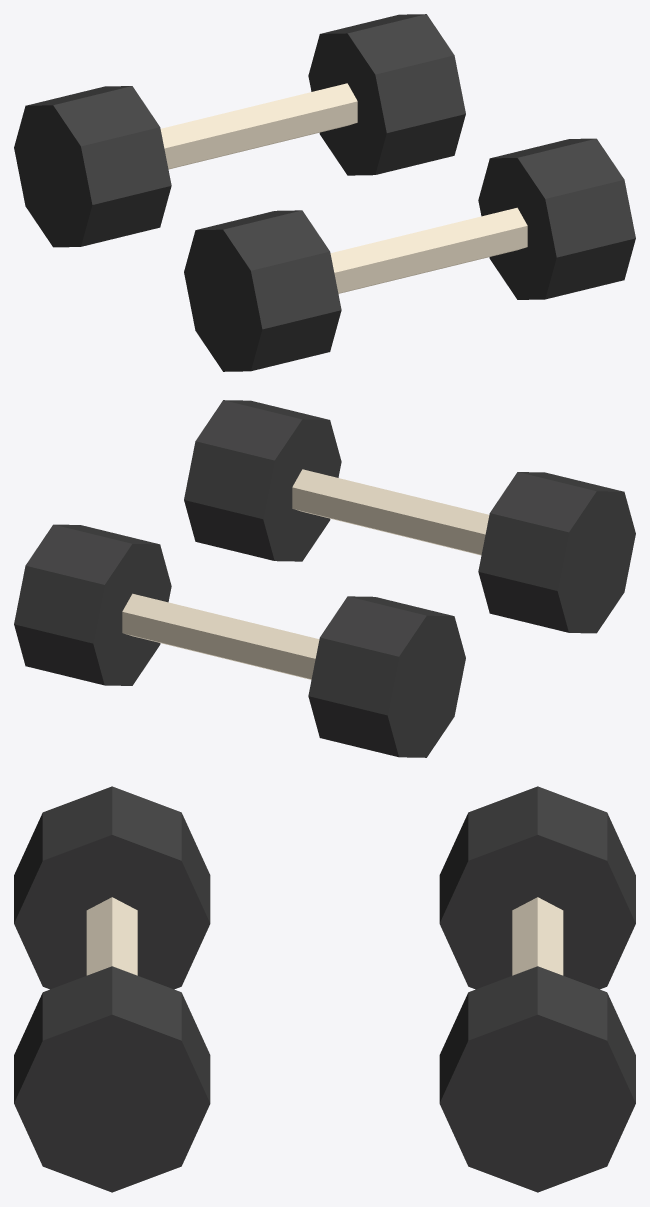
3 views of the same model, one above another, from view 1: azimuth 30°, elevation 25°; view 2: azimuth 150°, elevation 25°; view 3: azimuth 270°, elevation 25° (orthographic). The views are drawn at different scales.
Visible parts, largest first — view 1: Weight, Weight.002, Weight.003, Weight.001, Grip, Grip.001; view 2: Weight.002, Weight, Weight.001, Weight.003, Grip, Grip.001; view 3: Weight.001, Weight.003, Weight, Weight.002, Grip, Grip.001.
Boxes of the visible parts, bbox=[...] form: Weight: bbox=[184, 210, 341, 371]; Weight.002: bbox=[14, 86, 171, 247]; Weight.003: bbox=[308, 14, 465, 175]; Weight.001: bbox=[478, 138, 635, 299]; Grip: bbox=[330, 207, 527, 293]; Grip.001: bbox=[160, 83, 357, 169]; Weight.002: bbox=[308, 596, 465, 757]; Weight: bbox=[478, 472, 635, 633]; Weight.001: bbox=[184, 400, 341, 561]; Weight.003: bbox=[14, 524, 171, 685]; Grip: bbox=[292, 469, 489, 555]; Grip.001: bbox=[122, 593, 319, 679]; Weight.001: bbox=[14, 966, 210, 1192]; Weight.003: bbox=[439, 966, 635, 1192]; Weight: bbox=[14, 786, 210, 989]; Weight.002: bbox=[439, 786, 635, 989]; Grip: bbox=[86, 897, 137, 975]; Grip.001: bbox=[512, 897, 563, 975].
Bounding box in the file's own units: 33 × 12 × 38.
